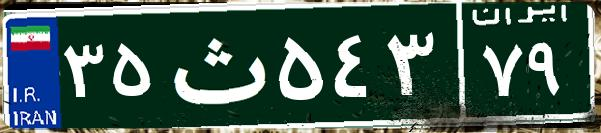3: (385, 28, 445, 110), (57, 26, 110, 107)
4: (330, 28, 385, 110)
5: (273, 28, 330, 110), (110, 28, 158, 105)
7: (475, 38, 525, 113)
9: (525, 38, 570, 115)
ث: (158, 15, 273, 115)
